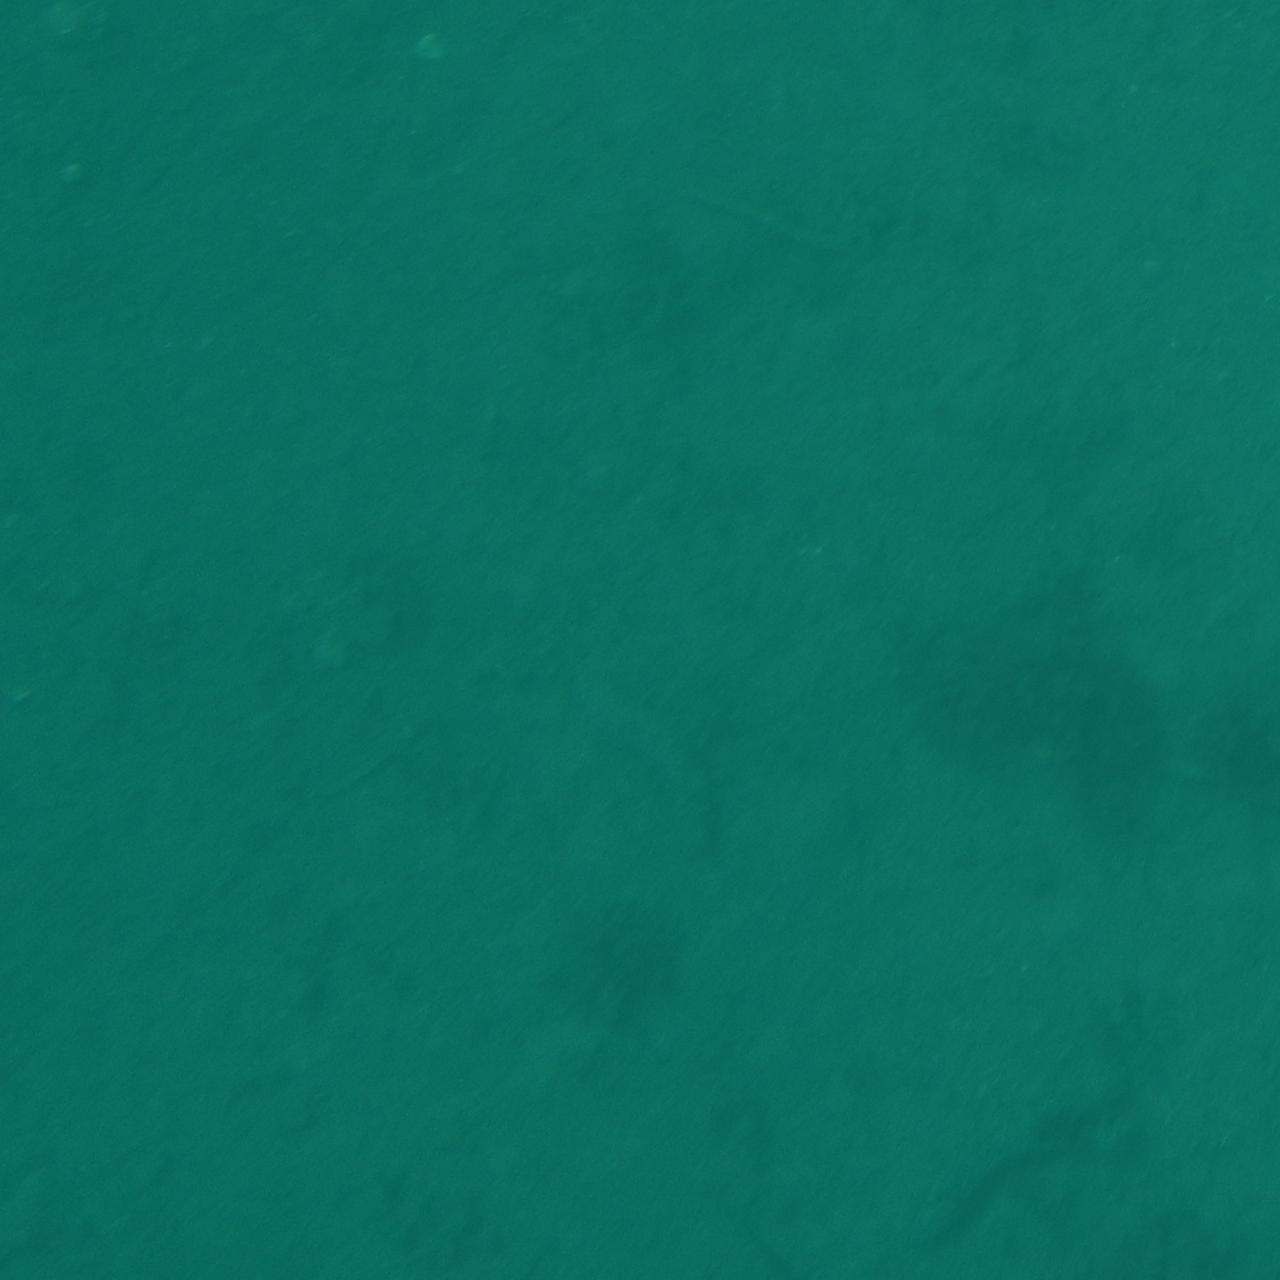Holothuria tubulosa: (548, 659, 732, 875)
